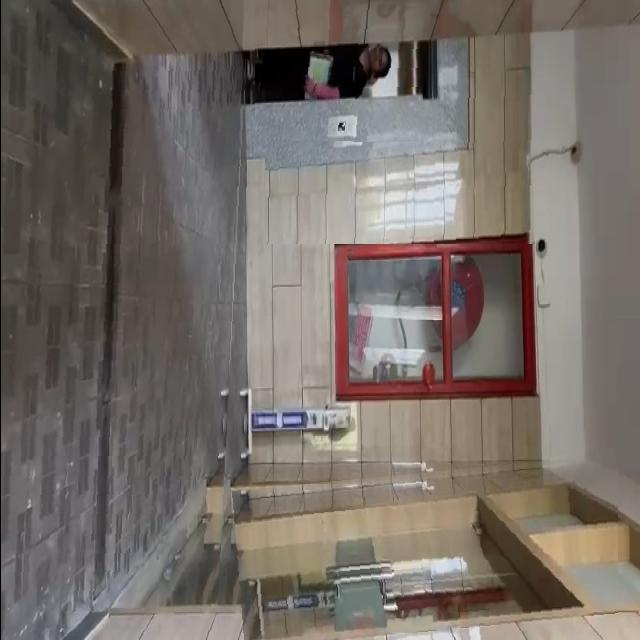floor: (0, 22, 247, 640)
moving_object: (254, 0, 427, 142)
wall: (231, 454, 617, 640), (264, 72, 538, 244)
